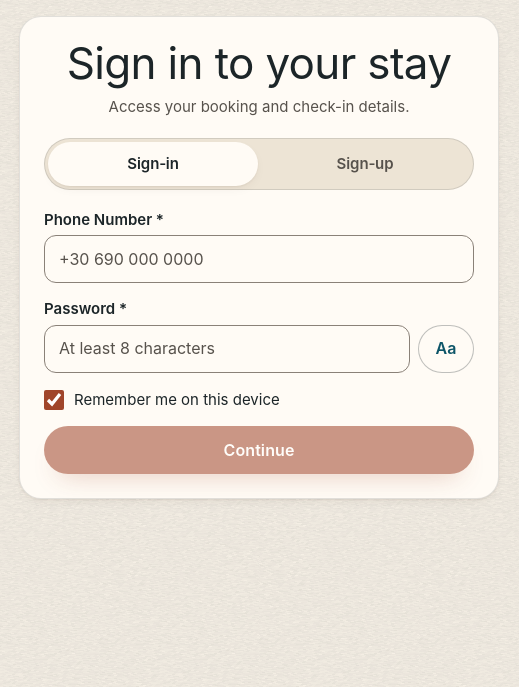
it: guest sign-in flow › removes the error when the guest chooses Try again
This screenshot has width=519, height=687.
In the field labelled "Phone Number *": (259, 259) [44,235,474,283], type "+306912345678"
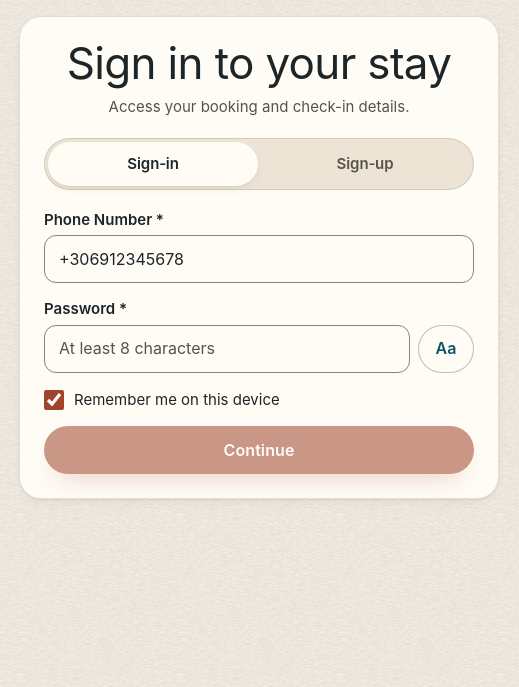
In the password field labelled "Password *": (227, 349) [44,325,410,373], type "correct-horse-battery"
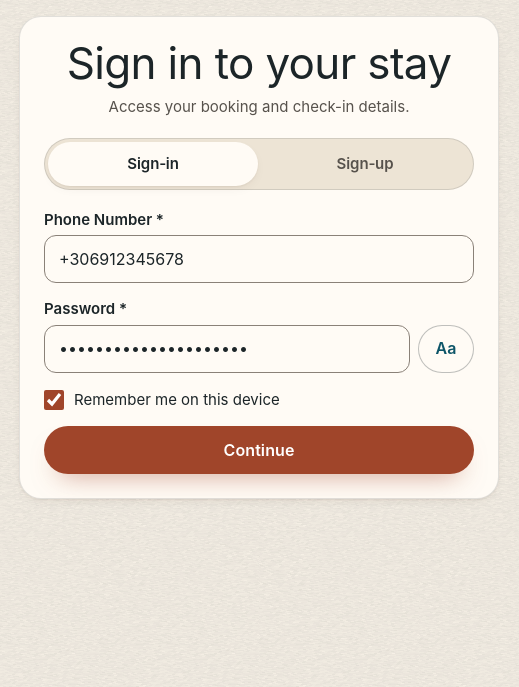
Submit the form, box [44,210,474,474]
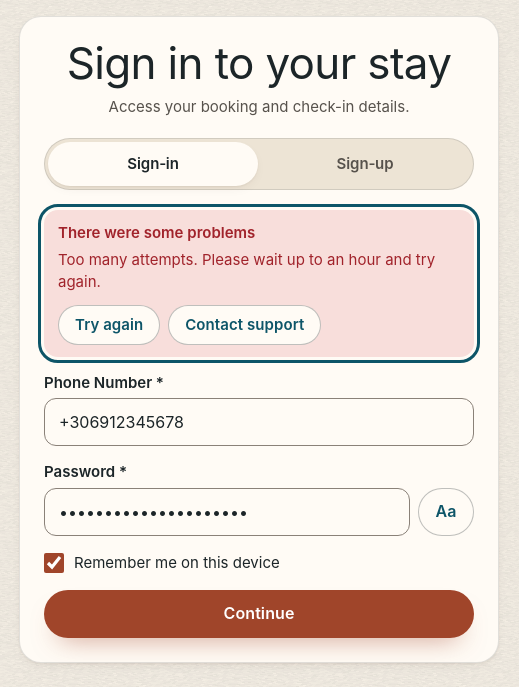
Now the message is shown, box [44,210,474,357]
Click the button "Try again": (109, 325) [58,305,160,345]
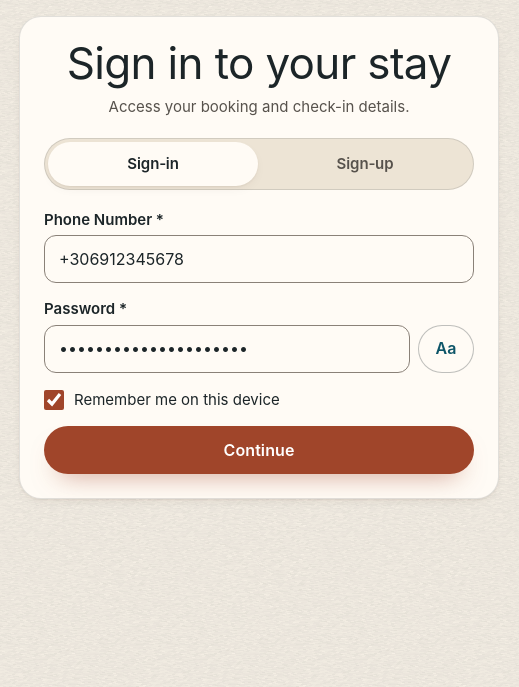
Now the message is gone
